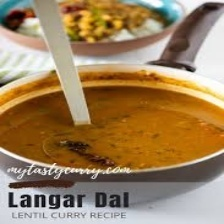sabzi: (6, 0, 167, 43)
